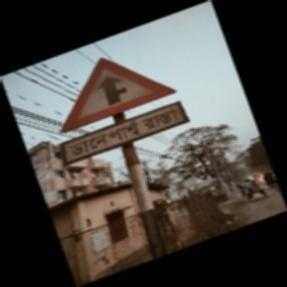Side-road-right: (59, 57, 186, 223)
